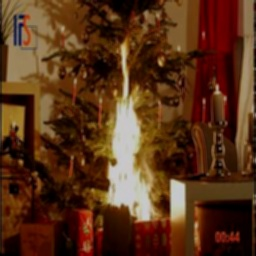fire: (95, 38, 160, 212)
